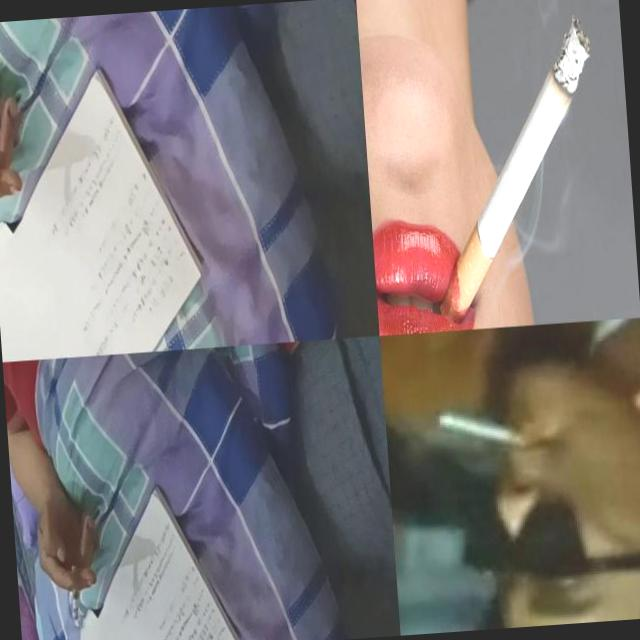cigarette: (404, 17, 608, 324), (436, 402, 536, 457), (69, 565, 81, 619), (0, 163, 5, 238)
